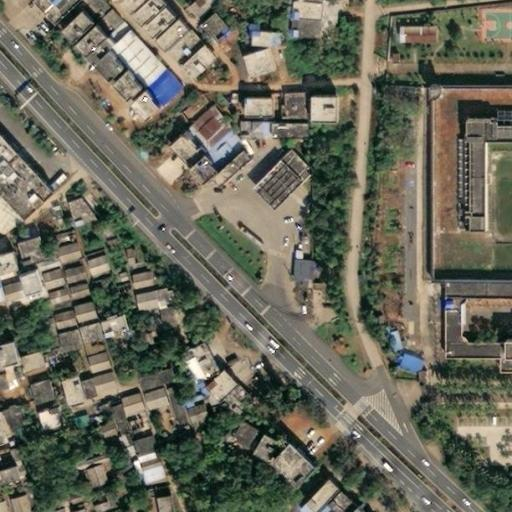building: (459, 108, 512, 234), (438, 281, 512, 359), (104, 34, 177, 108), (247, 147, 309, 214), (164, 133, 215, 185), (266, 449, 313, 495), (180, 106, 222, 149), (276, 396, 317, 437), (199, 129, 239, 169), (72, 29, 110, 69), (210, 154, 247, 192), (90, 54, 126, 91), (109, 75, 145, 112), (174, 48, 210, 84), (162, 36, 198, 72), (62, 190, 96, 228), (57, 13, 92, 48), (85, 10, 119, 43), (300, 479, 334, 512), (222, 349, 255, 383), (129, 95, 162, 128), (237, 52, 272, 83), (143, 11, 175, 44), (188, 346, 217, 382), (154, 24, 186, 56), (131, 368, 170, 394), (158, 383, 182, 424), (0, 200, 23, 240), (249, 431, 278, 461), (127, 288, 162, 312), (207, 374, 234, 405), (92, 316, 124, 342), (197, 17, 225, 46), (13, 237, 41, 266), (446, 141, 459, 203), (220, 388, 248, 416), (284, 260, 314, 285), (224, 424, 251, 451), (287, 4, 322, 24), (282, 21, 313, 43), (75, 464, 100, 491), (180, 360, 203, 388), (322, 492, 354, 512), (0, 403, 20, 435), (313, 100, 338, 125), (392, 28, 431, 44), (75, 255, 101, 279), (20, 380, 46, 404), (83, 371, 109, 395), (50, 242, 77, 265), (49, 328, 76, 351), (383, 323, 404, 352), (275, 95, 300, 119), (136, 388, 161, 412), (103, 403, 123, 433), (112, 391, 137, 415), (63, 302, 90, 324), (164, 311, 186, 338), (58, 379, 79, 407), (240, 98, 269, 118), (79, 353, 104, 376), (53, 264, 80, 285), (31, 407, 54, 431), (72, 323, 96, 345), (17, 353, 41, 375), (125, 435, 149, 456), (40, 285, 62, 307), (178, 403, 201, 424), (39, 230, 69, 246), (43, 309, 67, 329), (132, 466, 157, 484), (16, 270, 35, 293), (122, 417, 141, 440), (30, 255, 54, 273), (83, 495, 108, 512), (36, 270, 57, 290), (270, 126, 302, 139), (391, 354, 417, 370), (76, 340, 99, 358), (445, 203, 459, 231), (101, 245, 118, 268), (124, 271, 145, 289), (167, 421, 185, 442), (0, 278, 17, 300), (241, 456, 261, 474), (79, 279, 100, 296), (151, 306, 166, 329), (58, 284, 82, 298), (10, 229, 32, 244), (130, 458, 155, 471), (2, 496, 22, 512), (247, 34, 268, 49), (73, 377, 88, 398), (149, 496, 167, 512), (36, 347, 55, 362), (118, 247, 129, 271), (108, 281, 124, 297), (204, 404, 221, 419), (89, 424, 108, 437), (118, 409, 139, 420), (87, 303, 107, 314), (76, 250, 97, 260), (110, 435, 126, 448), (65, 414, 81, 427), (338, 99, 347, 121), (128, 452, 146, 463), (0, 469, 12, 485), (242, 122, 255, 135), (254, 123, 265, 137), (232, 121, 243, 135), (0, 447, 11, 461), (238, 25, 254, 34), (89, 292, 102, 303), (98, 238, 112, 248), (291, 504, 308, 512), (91, 402, 102, 414), (111, 272, 119, 283), (6, 459, 16, 467), (62, 508, 77, 512)
